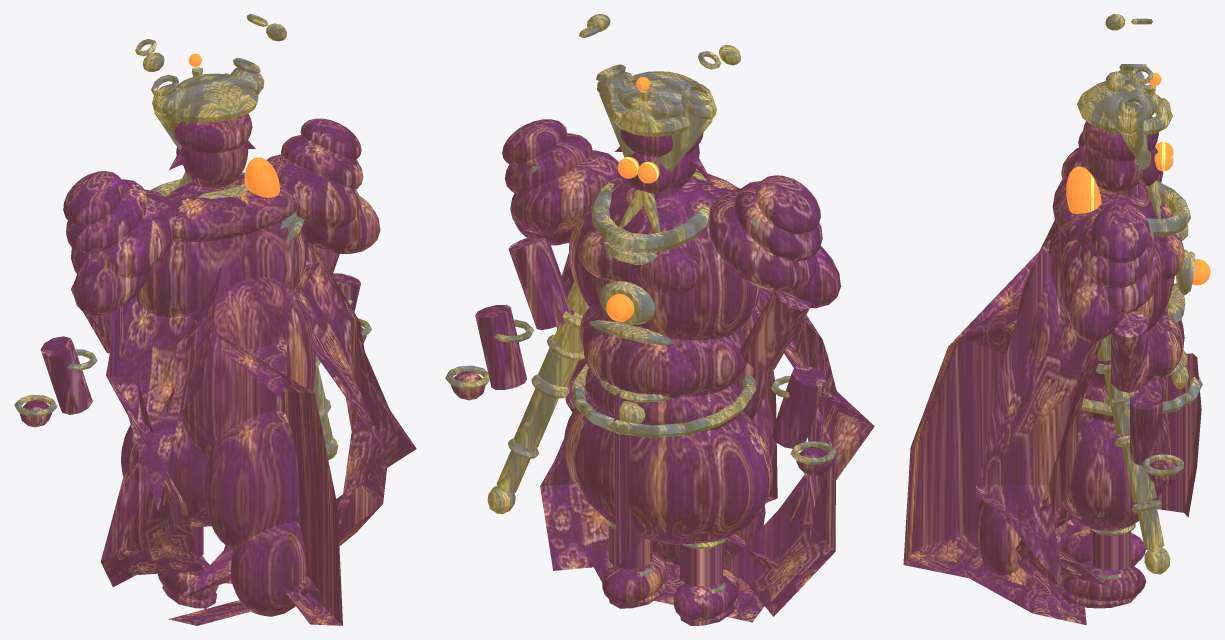
File: demon_king.glb
The picture shows the model from 3 angles, left to right: view 1: azimuth 30°, elevation 25°; view 2: azimuth 150°, elevation 25°; view 3: azimuth 270°, elevation 25°; orthographic projection. The views are drawn at different scales.
Parts seen in each view (by area): view 1: body, metal, glow; view 2: body, metal, glow; view 3: body, metal, glow.
Part boxes in pixels (<box>): body: <box>19,114,416,625</box>; metal: <box>14,14,371,560</box>; glow: <box>172,53,279,197</box>; body: <box>451,119,874,625</box>; metal: <box>445,14,836,593</box>; glow: <box>606,77,659,321</box>; body: <box>903,116,1201,625</box>; metal: <box>1064,14,1202,579</box>; glow: <box>1066,72,1210,285</box>.
Bounding box in the file's own units: 2.16 × 3.2 × 1.62.
3 materials, 3 textured.
